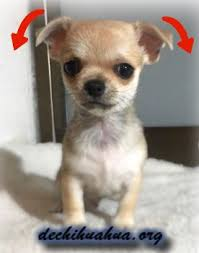chihuahua: (17, 10, 187, 242)
